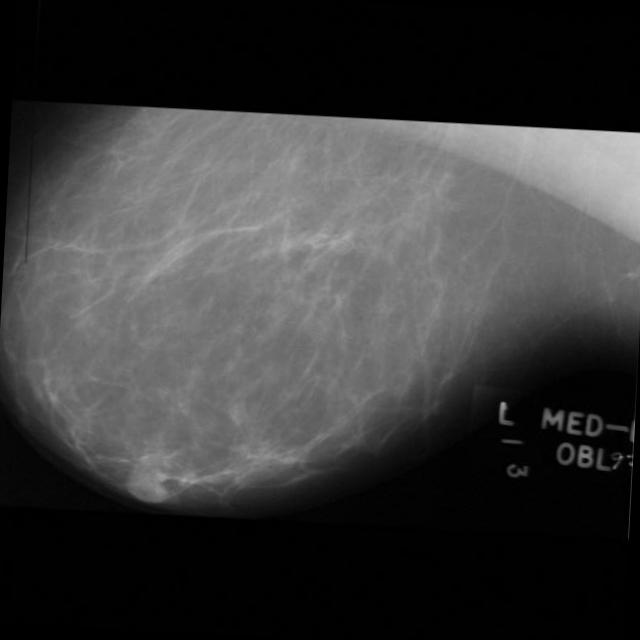CALC: (311, 236, 368, 294)
